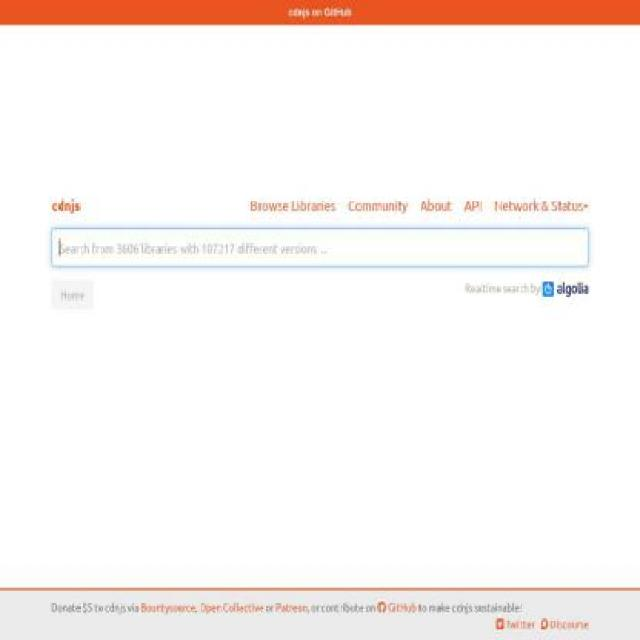button: (0, 0, 640, 26), (494, 193, 589, 216), (249, 193, 337, 216), (348, 193, 409, 216), (419, 193, 453, 216), (50, 193, 81, 216), (463, 193, 483, 216)
field: (51, 228, 589, 267)
